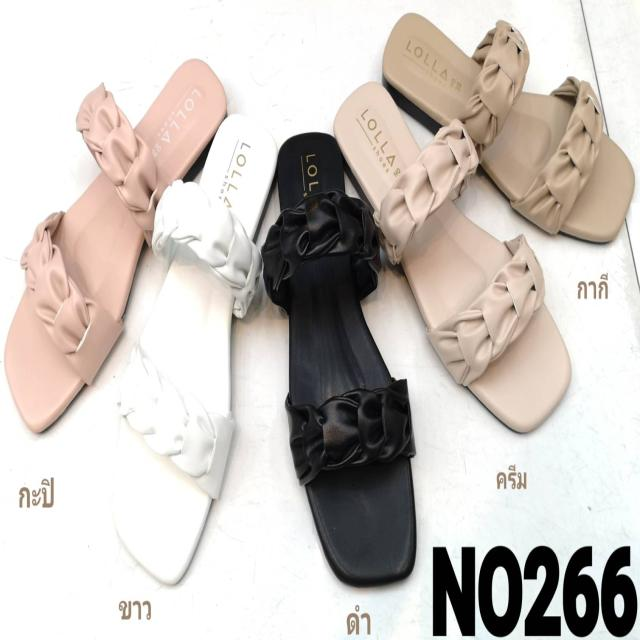black: (280, 131, 417, 584)
cream: (337, 81, 572, 424)
kakee: (382, 15, 636, 245)
kapi: (6, 57, 226, 424)
white: (118, 114, 277, 583)
